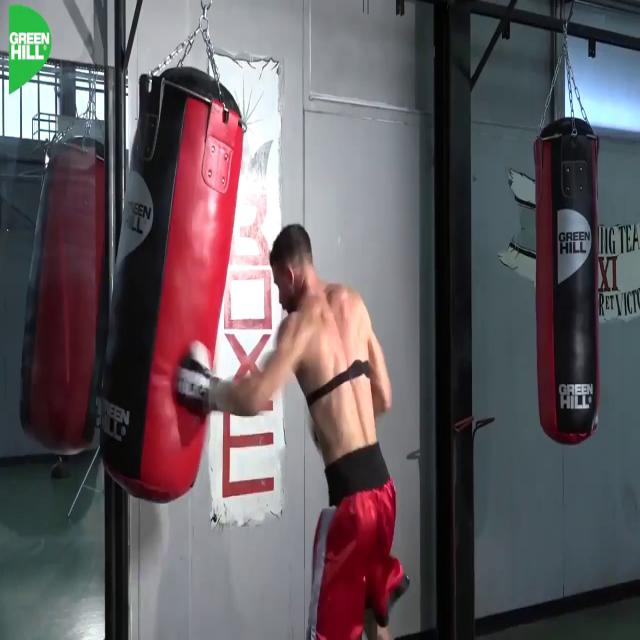Punching Bag: (80, 58, 264, 516)
